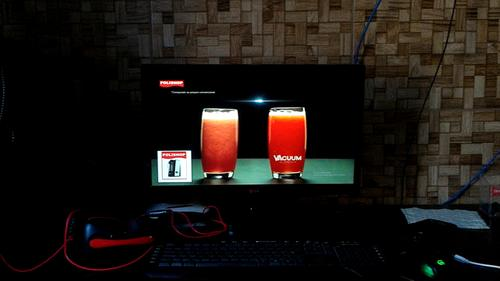Polishop #1: (157, 150, 192, 183)
